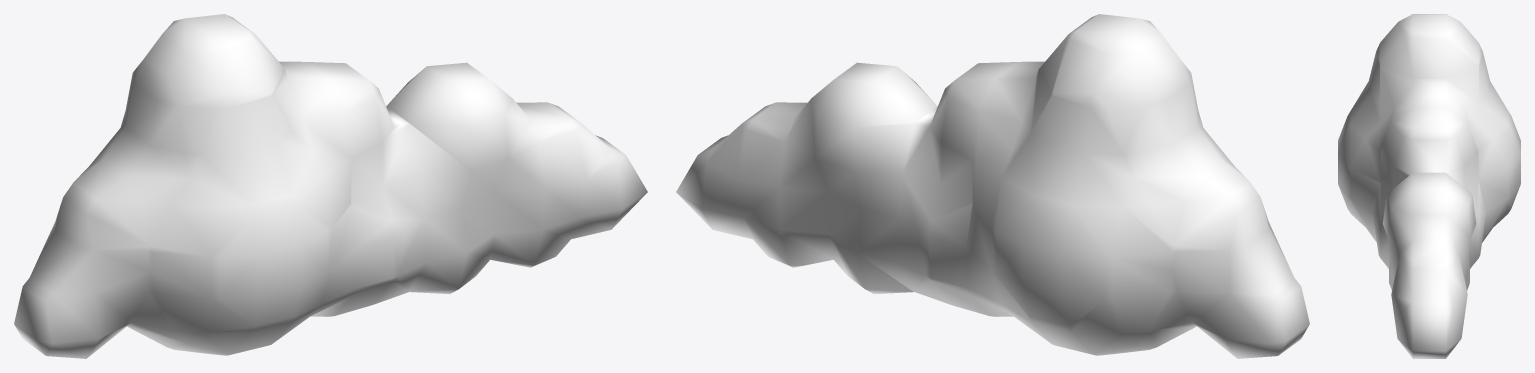
The model's file is cloud8.glb.
3 views of the same model, side by side, from view 1: azimuth 30°, elevation 25°; view 2: azimuth 150°, elevation 25°; view 3: azimuth 270°, elevation 25° (orthographic). The views are drawn at different scales.
Parts seen in each view (by area): view 1: Mball.020; view 2: Mball.020; view 3: Mball.020.
Boxes of the visible parts, box(x1,y1,x2,y2) form: Mball.020: box(14, 14, 647, 358); Mball.020: box(676, 14, 1309, 358); Mball.020: box(1338, 14, 1520, 358).
Size of the model in its own units: 11.24 by 5.6 by 4.15.
1 material, 1 textured.
